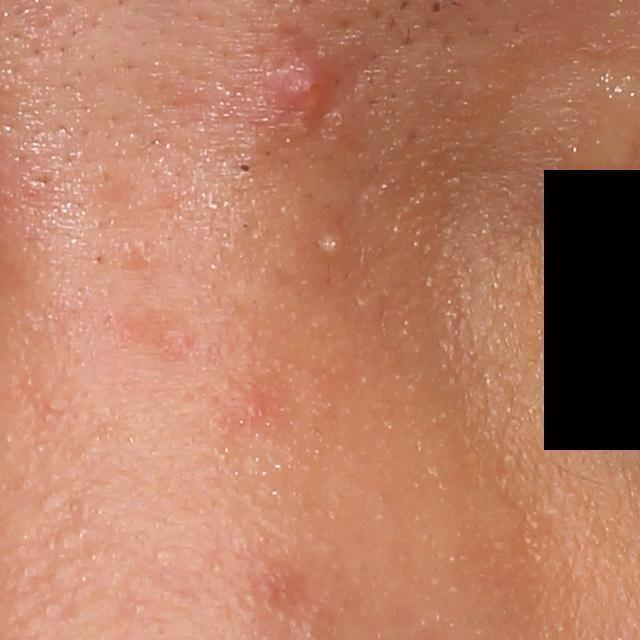comedo: (236, 159, 256, 178)
papule: (268, 50, 329, 117)
